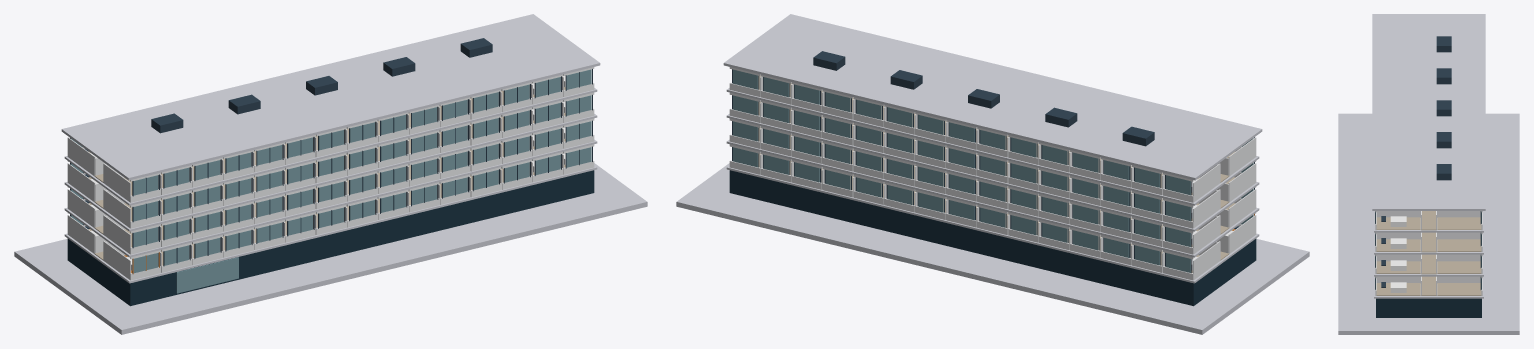
File: hotel120.glb
3 views of the same model, side by side, from view 1: azimuth 30°, elevation 25°; view 2: azimuth 150°, elevation 25°; view 3: azimuth 270°, elevation 25° (orthographic). The views are drawn at different scales.
Parts seen in each view (by area): view 1: roof-cover, site-plinth, services, slab-1, slab-2, slab-3, slab-4, entrance, room-416-partition, room-116-partition, room-201-partition, room-401-partition (+9 smaller); view 2: roof-cover, site-plinth, services, slab-1, slab-2, slab-3, slab-4, room-401-partition, room-101-partition, room-216-partition, room-416-partition, room-116-partition (+8 smaller); view 3: roof-cover, site-plinth, services, room-130-floor, room-230-floor, room-330-floor, room-430-floor, slab-1, slab-2, slab-3, slab-4, room-115-floor (+24 smaller).
Boxes of the visible parts, x1,y1,x2,y2 form: roof-cover: [61, 14, 600, 180]; site-plinth: [14, 163, 647, 334]; services: [67, 170, 594, 306]; slab-1: [64, 165, 597, 283]; slab-2: [64, 139, 597, 257]; slab-3: [64, 114, 597, 231]; slab-4: [64, 88, 597, 205]; entrance: [176, 257, 238, 293]; room-416-partition: [67, 137, 95, 176]; room-116-partition: [67, 215, 95, 253]; room-201-partition: [103, 215, 130, 254]; room-401-partition: [103, 163, 130, 202]; roof-cover: [723, 14, 1262, 180]; site-plinth: [676, 163, 1309, 334]; services: [729, 170, 1256, 306]; slab-1: [726, 165, 1259, 283]; slab-2: [726, 139, 1259, 257]; slab-3: [726, 114, 1259, 231]; slab-4: [726, 88, 1259, 205]; room-401-partition: [1228, 137, 1256, 176]; room-101-partition: [1228, 215, 1256, 253]; room-216-partition: [1193, 215, 1220, 254]; room-416-partition: [1193, 163, 1220, 202]; room-116-partition: [1193, 241, 1220, 280]; roof-cover: [1372, 14, 1485, 210]; site-plinth: [1338, 113, 1519, 334]; services: [1376, 298, 1481, 317]; room-130-floor: [1437, 283, 1481, 295]; room-230-floor: [1437, 261, 1481, 273]; room-330-floor: [1437, 239, 1481, 251]; room-430-floor: [1437, 217, 1481, 229]; slab-1: [1374, 276, 1483, 298]; slab-2: [1374, 254, 1483, 276]; slab-3: [1374, 232, 1483, 254]; slab-4: [1374, 211, 1483, 232]; room-115-floor: [1376, 283, 1420, 295].
Bounding box in the file's own units: 68 × 17.7 × 24.
